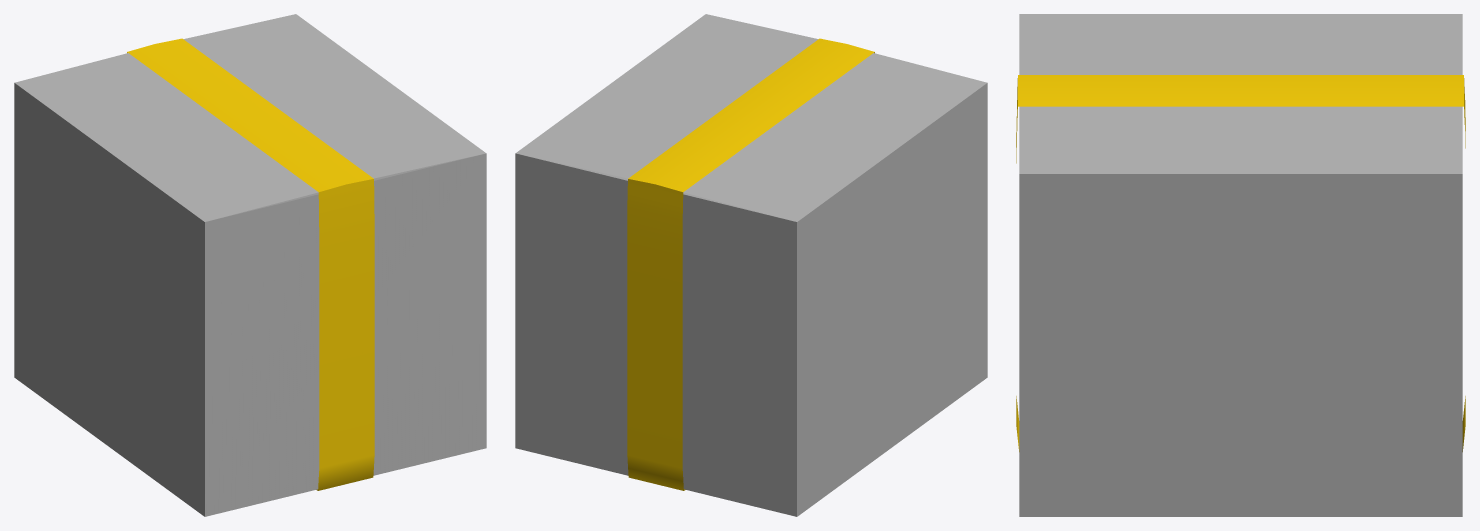
The model's file is box closed.fbx.
3 renders of one model, left to right at view 1: azimuth 30°, elevation 25°; view 2: azimuth 150°, elevation 25°; view 3: azimuth 270°, elevation 25°, orthographic. The views are drawn at different scales.
Visible parts, largest first — view 1: pCube1, pCube2; view 2: pCube1, pCube2; view 3: pCube1, pCube2.
Part boxes in pixels (x1,y1,x2,y2): pCube1: [14, 14, 486, 516]; pCube2: [127, 38, 374, 490]; pCube1: [515, 14, 987, 516]; pCube2: [627, 38, 874, 490]; pCube1: [1019, 14, 1462, 516]; pCube2: [1016, 75, 1465, 451].
Bounding box in the file's own units: 1 × 1.02 × 1.19.
